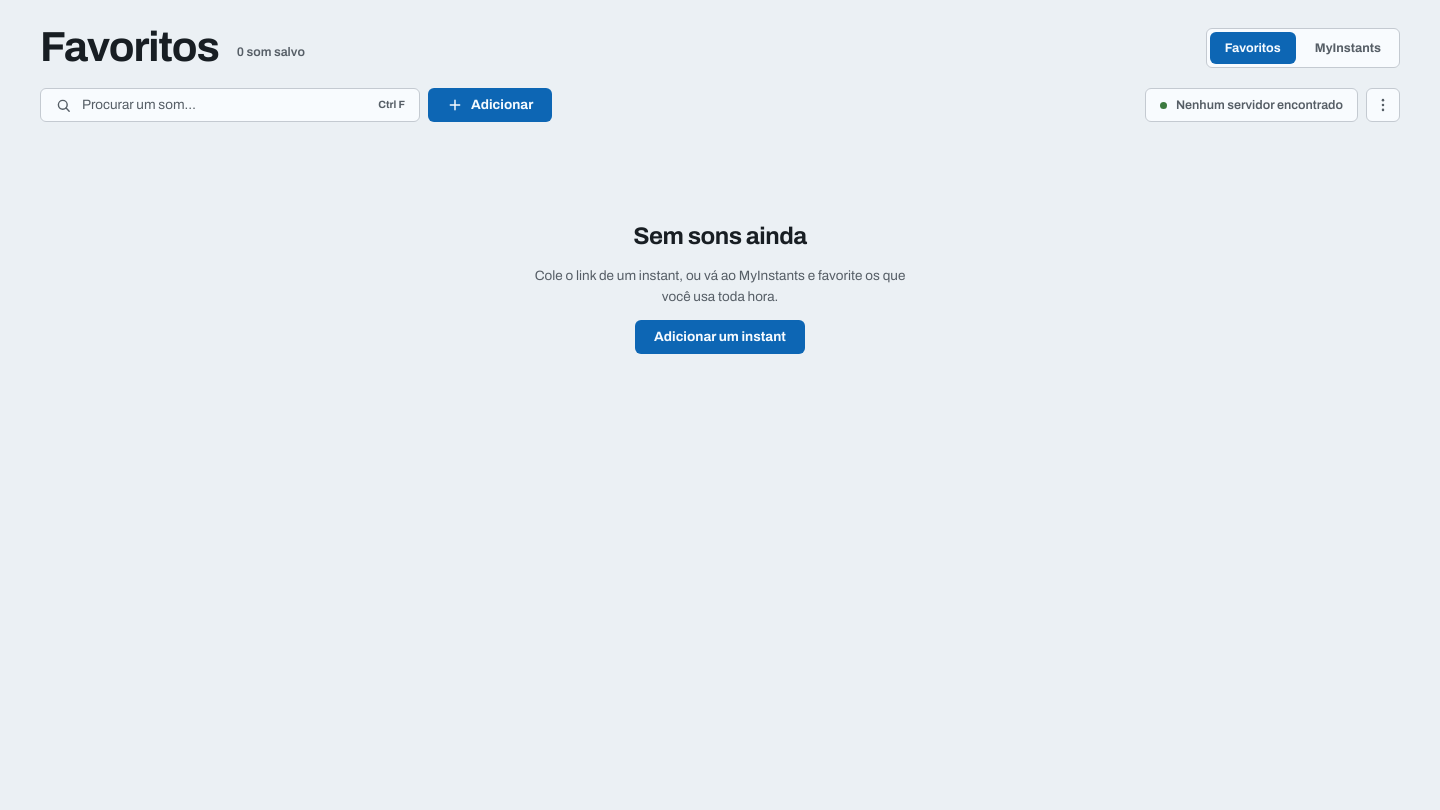
Test: shell › follows the OS by default and remembers an explicit mode
Step 1. Click the button named "Mais opções" → {"x": 1383, "y": 105}, box x1=1366 y1=88 x2=1400 y2=122
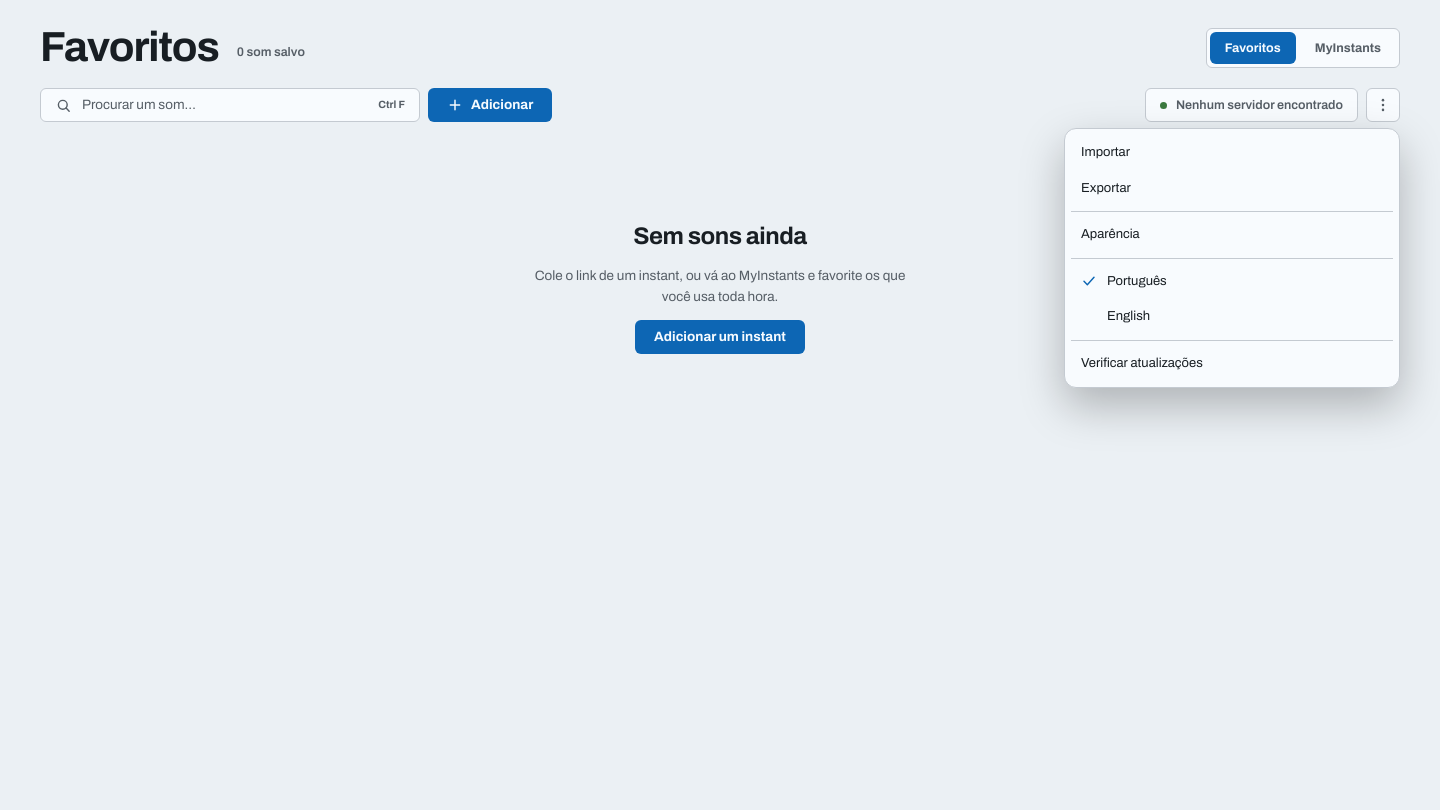
Step 2. Click the menu item "Aparência" → {"x": 1110, "y": 234}, box x1=1081 y1=227 x2=1140 y2=241
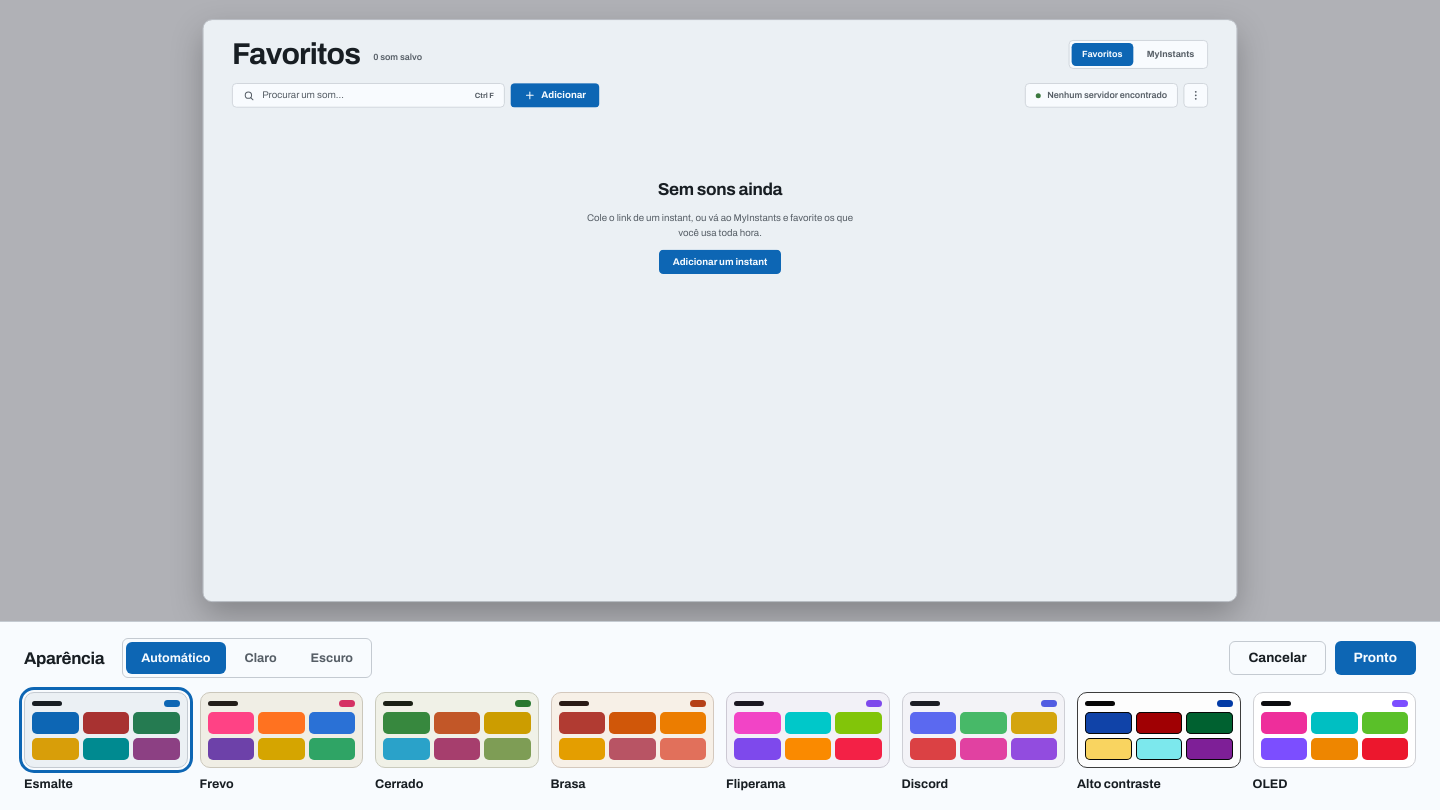
Step 3. Click the radio button labelled "Escuro" → {"x": 332, "y": 658}, box x1=296 y1=642 x2=368 y2=674
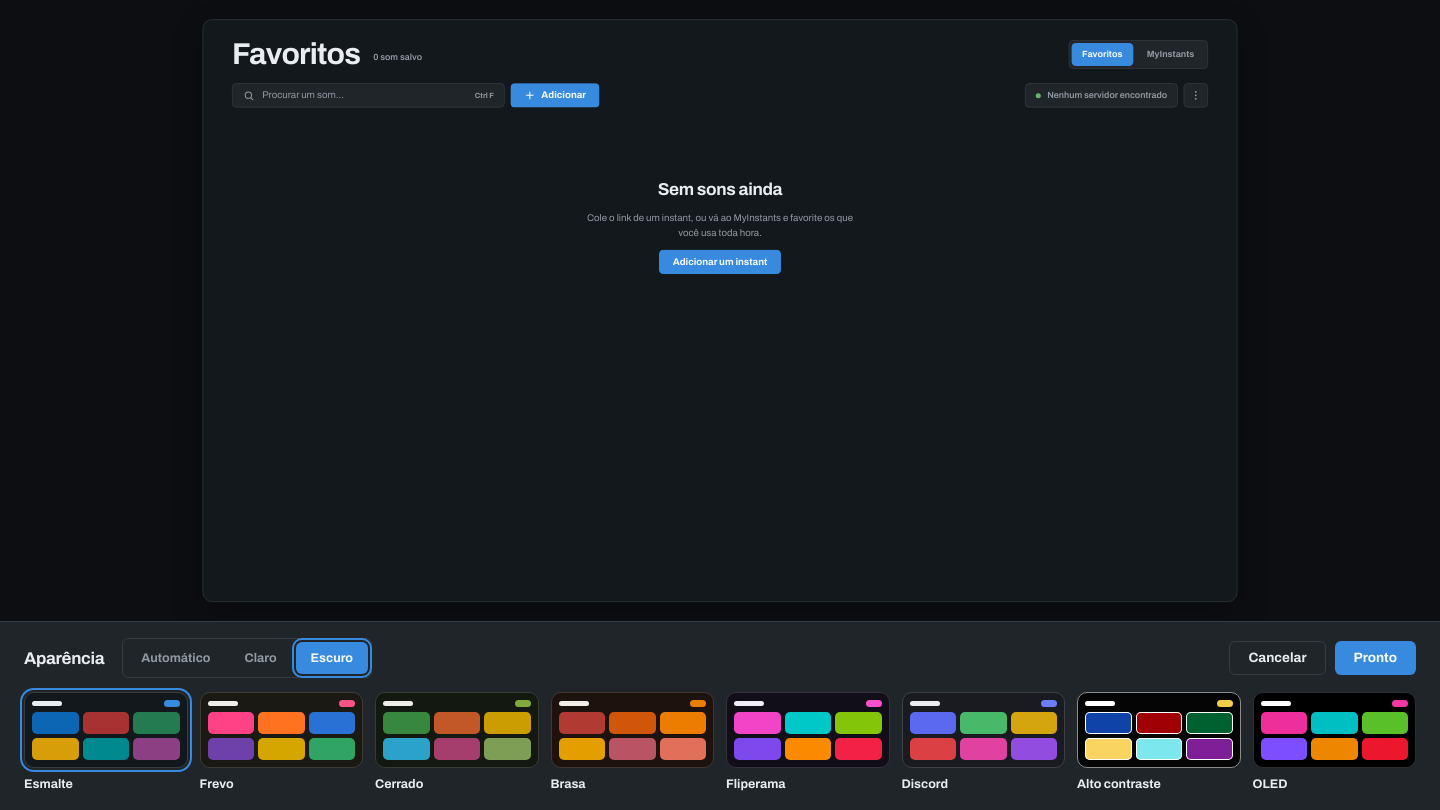
Step 4. Click the button "Pronto" → {"x": 1375, "y": 658}, box x1=1334 y1=641 x2=1416 y2=675
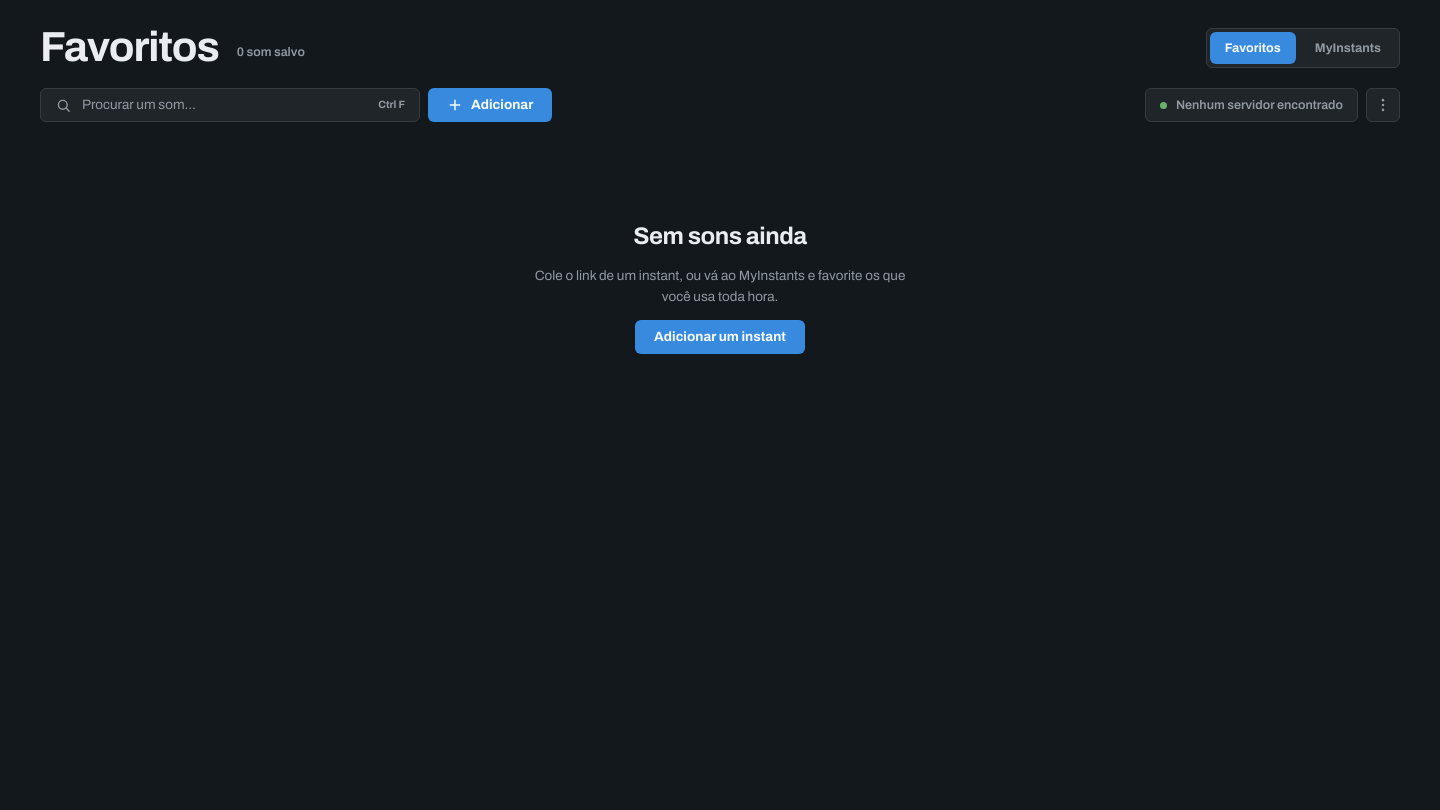
Now the heading "Aparência" is gone
